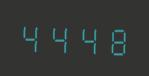eight: (102, 20, 129, 57)
four: (18, 18, 45, 54), (46, 19, 73, 55), (74, 20, 101, 56)
